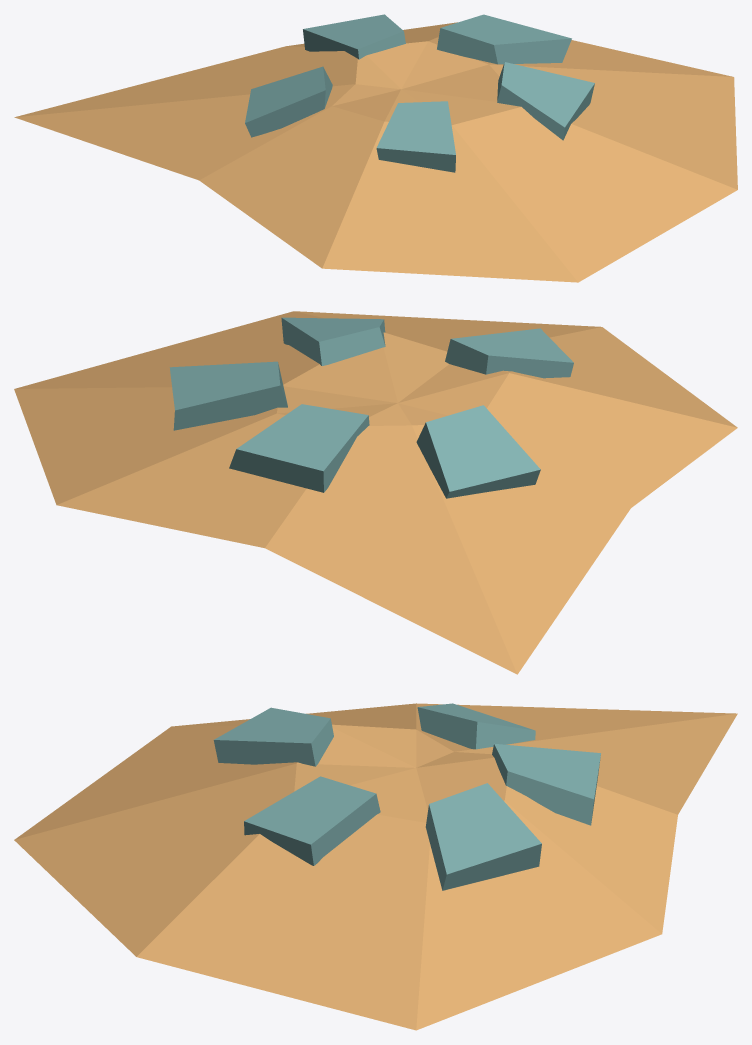
The model's file is fireplace.glb.
3 renders of one model, top to bottom at view 1: azimuth 30°, elevation 25°; view 2: azimuth 150°, elevation 25°; view 3: azimuth 270°, elevation 25°, orthographic. The views are drawn at different scales.
Visible parts, largest first — view 1: Circle, Plane.002; view 2: Circle, Plane.002; view 3: Circle, Plane.002.
Boxes of the visible parts, bbox=[...] form: Circle: bbox=[14, 22, 737, 282]; Plane.002: bbox=[245, 14, 594, 172]; Circle: bbox=[14, 311, 737, 674]; Plane.002: bbox=[169, 317, 573, 498]; Circle: bbox=[14, 703, 737, 1030]; Plane.002: bbox=[213, 703, 600, 890].
Bounding box in the file's own units: 1.12 × 0.1765 × 1.07.
